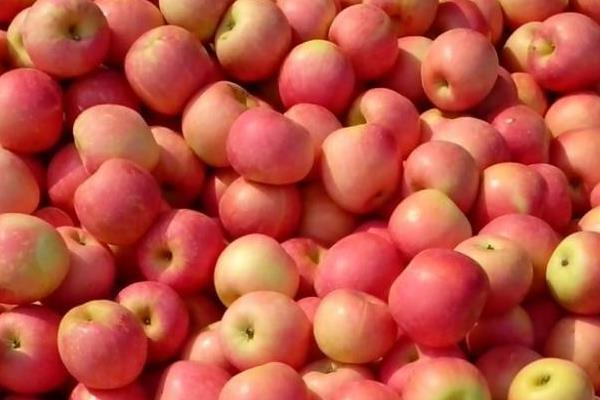apple: (387, 247, 490, 347), (121, 24, 213, 113), (318, 123, 403, 214), (71, 159, 160, 245), (217, 293, 314, 370), (58, 301, 142, 389), (139, 209, 222, 291), (227, 108, 315, 185), (420, 26, 500, 110), (1, 210, 68, 310), (211, 234, 300, 309), (1, 303, 71, 396), (213, 1, 291, 82), (70, 103, 160, 173), (27, 1, 107, 79), (528, 11, 599, 98), (313, 289, 395, 361), (278, 39, 354, 115), (117, 284, 188, 358), (405, 139, 480, 209), (46, 227, 116, 302), (1, 68, 63, 150), (346, 87, 424, 152), (145, 127, 206, 209), (542, 230, 600, 315), (551, 128, 600, 215), (506, 356, 593, 400)
